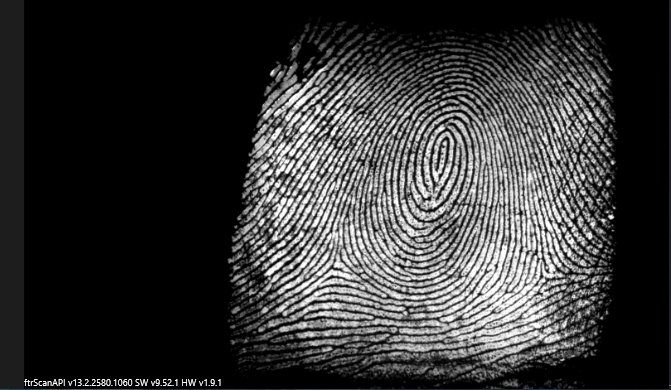deltas: (308, 231, 366, 288), (520, 241, 572, 300)
nucleo: (405, 121, 475, 192)
